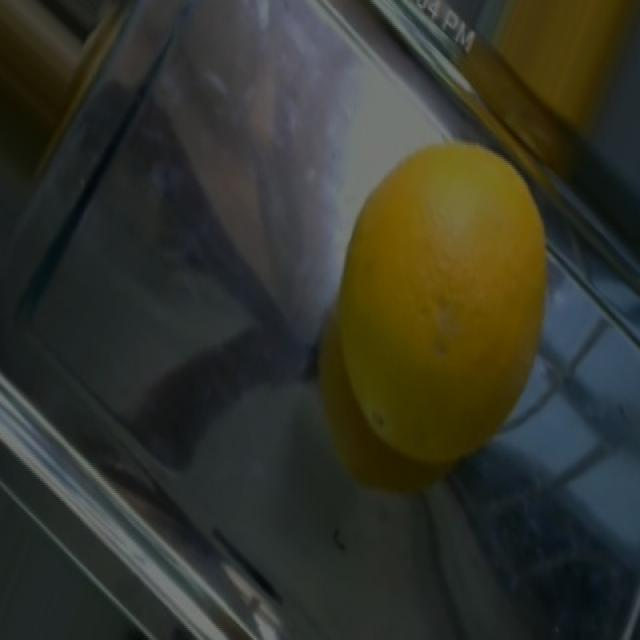Fruit: (307, 115, 569, 463)
